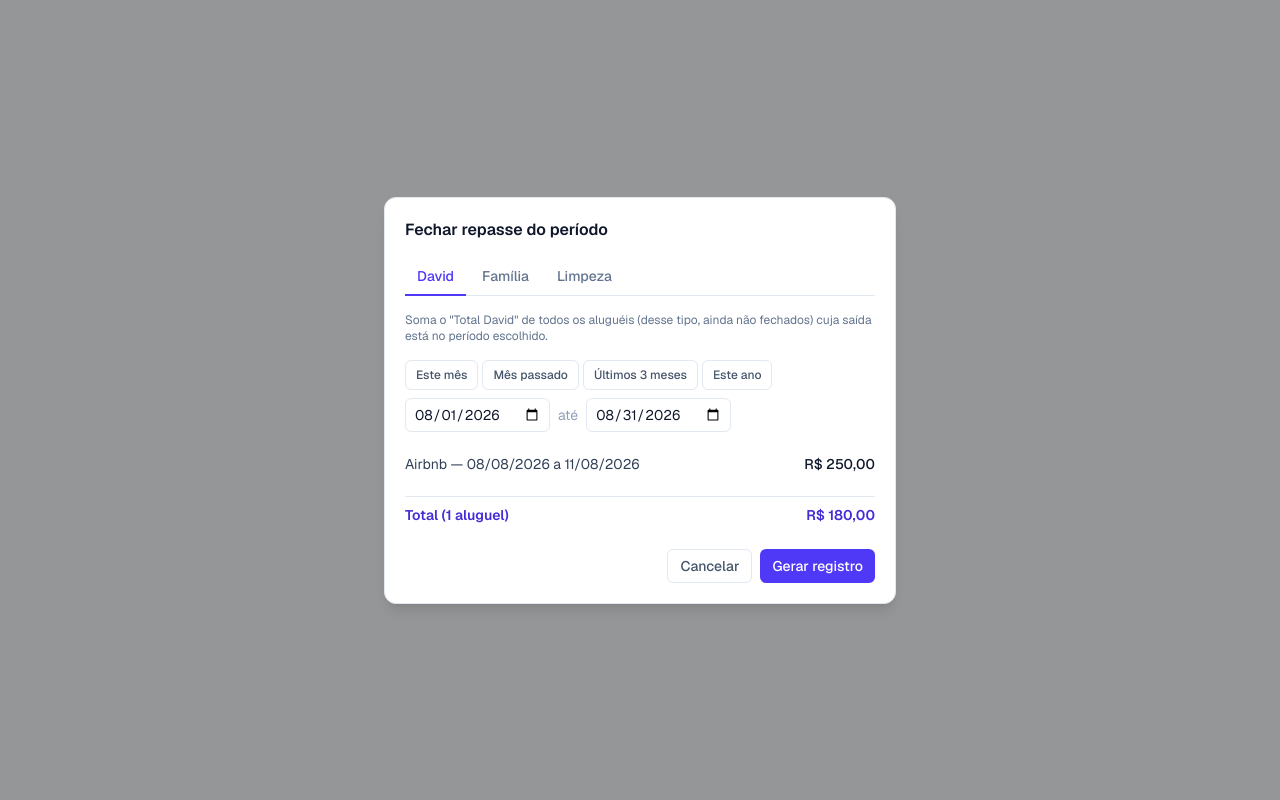
Test case: SettlementModal — troca de tipo › no tipo Limpeza o valor por aluguel é o valor da limpeza
Expected: the text "Airbnb — 08/08/2026 a 11/08/2026" is shown, [405, 454, 640, 474]
Click the button "Limpeza" at point(584, 276), box [545, 258, 624, 296]
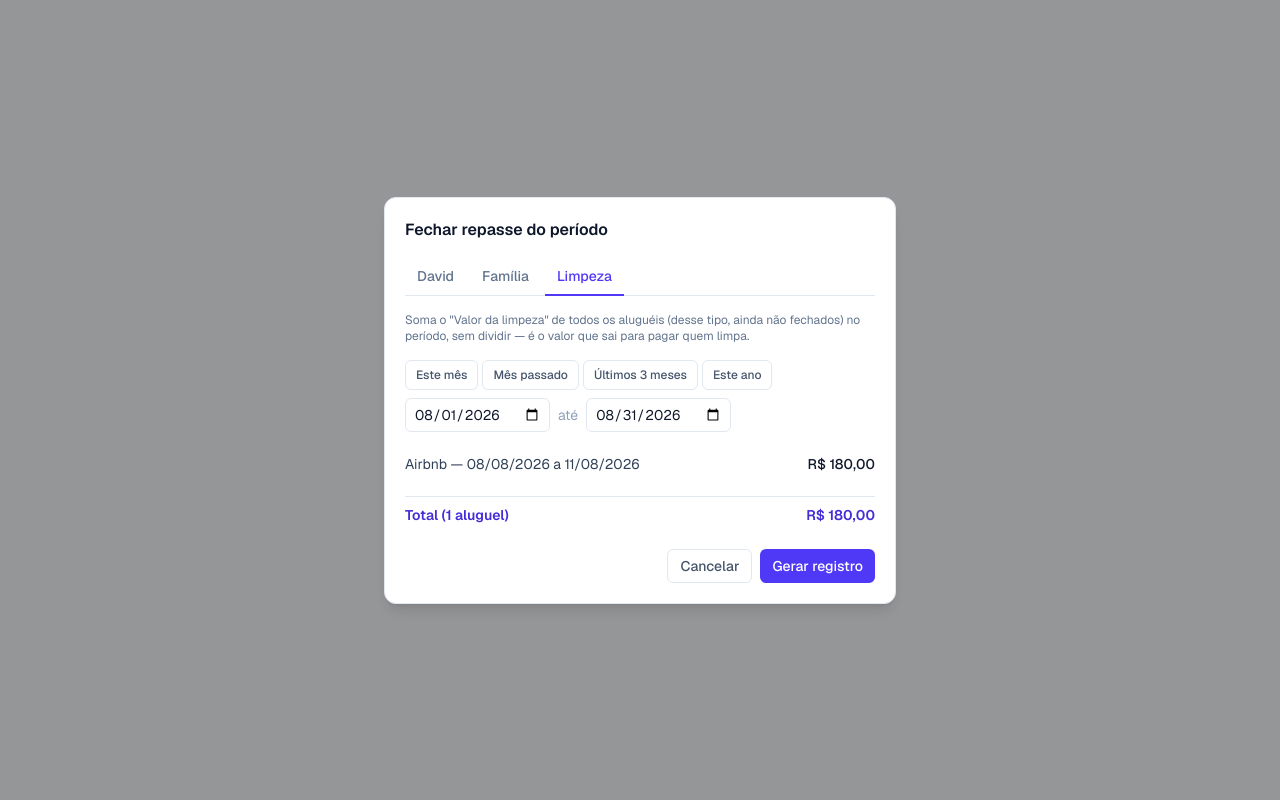
Expected: the list item "Airbnb — 08/08/2026 a 11/08/2026 R$ 180,00" is shown, [405, 454, 875, 472]
